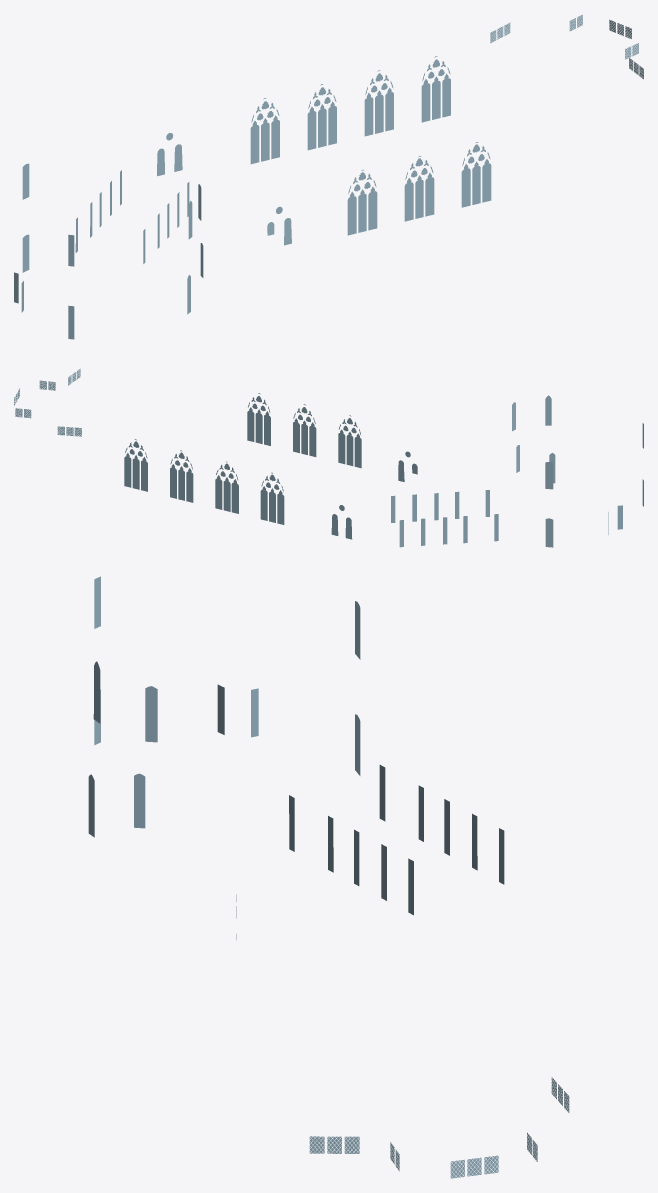
Rendered from FairyTale63.gltf.
The picture shows the model from 3 angles, top to bottom: view 1: azimuth 30°, elevation 25°; view 2: azimuth 150°, elevation 25°; view 3: azimuth 270°, elevation 25°; orthographic projection. The views are drawn at different scales.
Parts seen in each view (by area): view 1: ManorMD_Glass; view 2: ManorMD_Glass; view 3: ManorMD_Glass.
Part boxes in pixels (box(x1,y1,x2,y2)): ManorMD_Glass: box(14, 14, 643, 339); ManorMD_Glass: box(14, 368, 643, 547); ManorMD_Glass: box(88, 576, 569, 1178).
Size of the model in its own units: 49 by 7.64 by 18.72.
